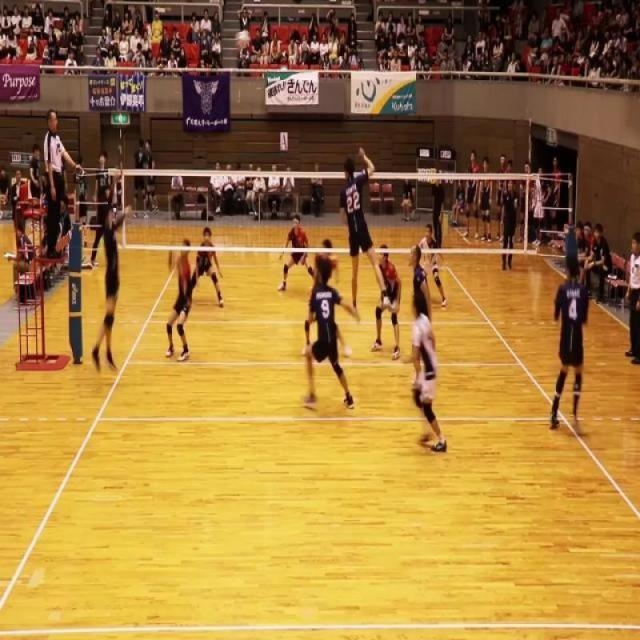volleyball: (234, 29, 252, 49)
